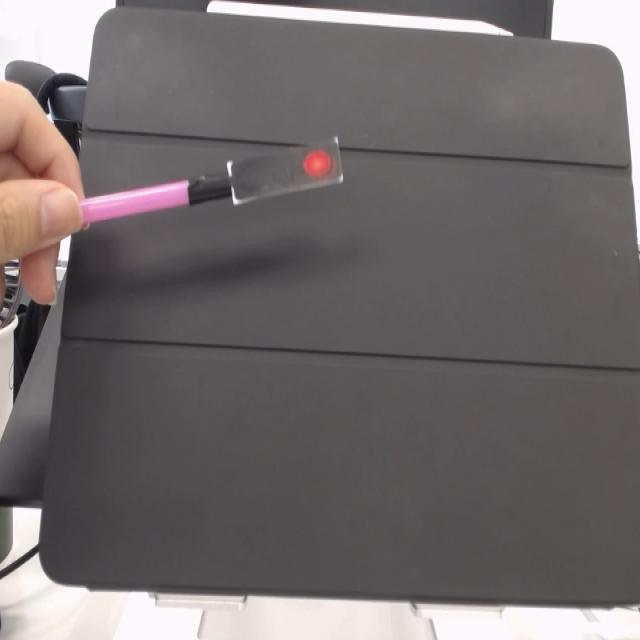traffic light: (230, 144, 344, 203)
